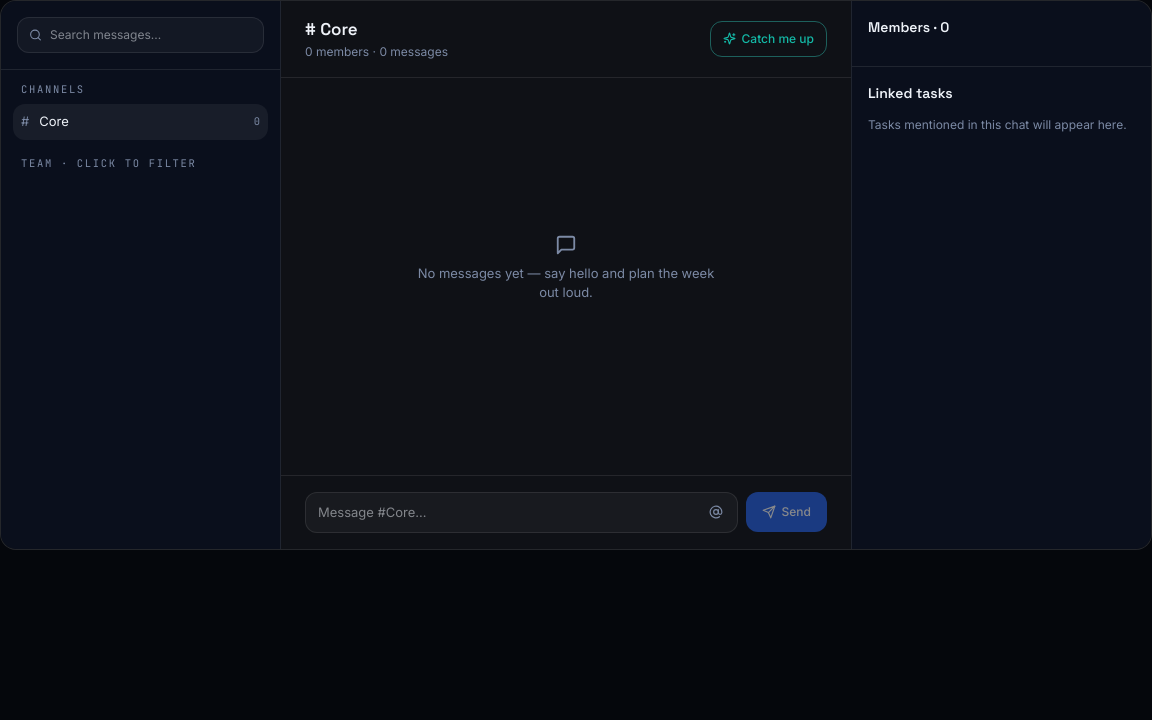
Scenario: TeamChatPage › sends a message and clears the box
Expected: the text "No messages yet — say hello and plan the week out loud." is shown, 406,264 -> 726,302
Type "Shipping Friday" into the field named "Write a chat message" at (521, 512), box 305,492 -> 738,533
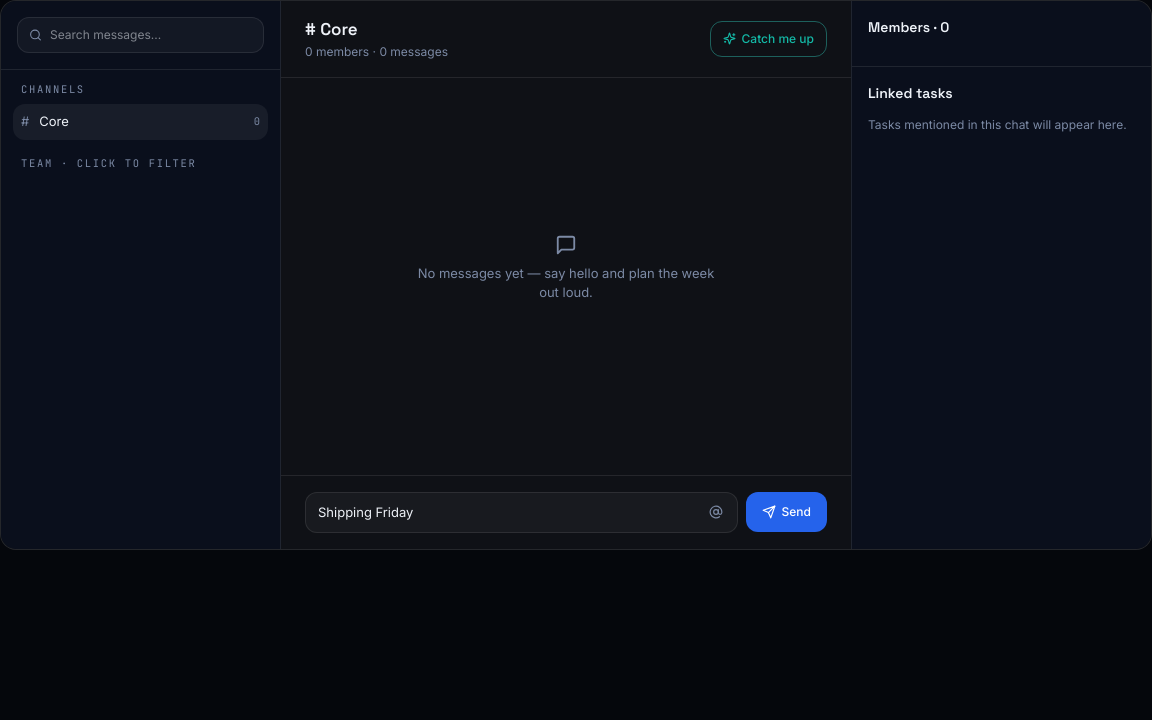
Click the button with aria-label "Send message" at (786, 512), box 746,492 -> 827,532
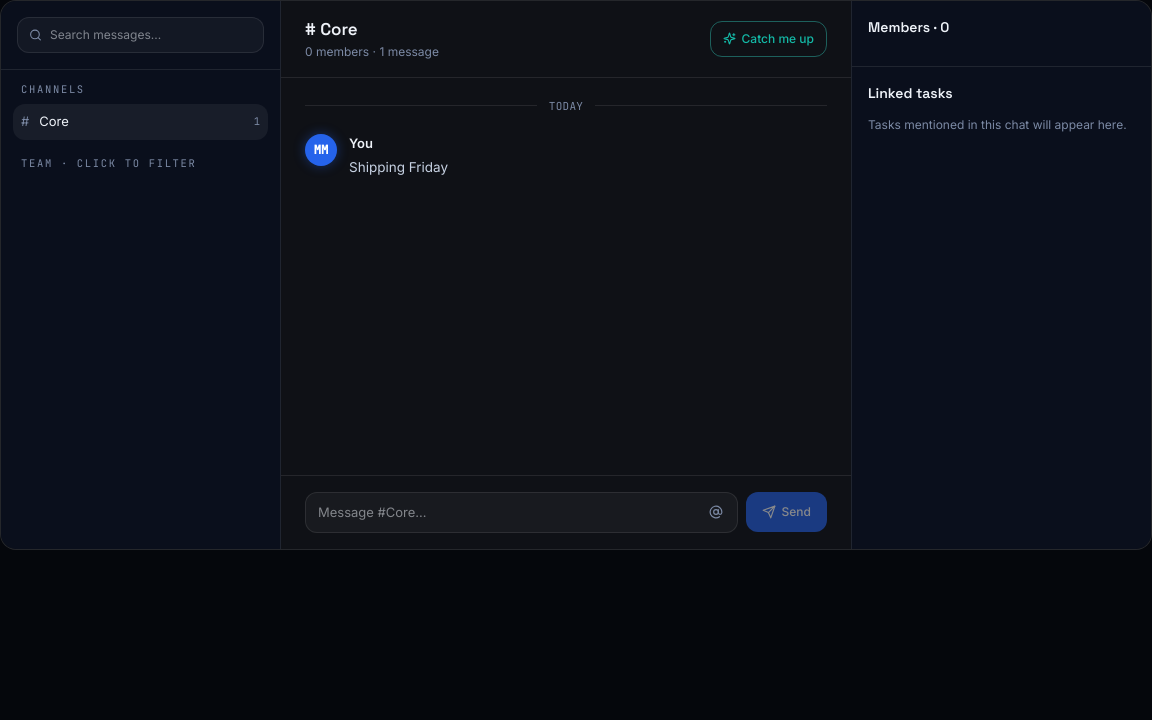
Expected: the text "Shipping Friday" is shown, 349,158 -> 448,174
Expected: the field named "Write a chat message" is empty, 305,492 -> 738,533
